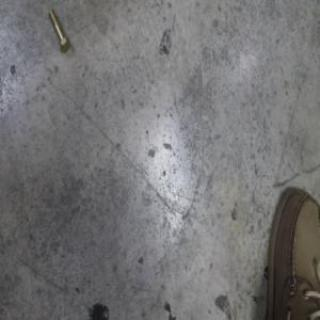Bolttrack_idkeyframe: (48, 8, 71, 54)
